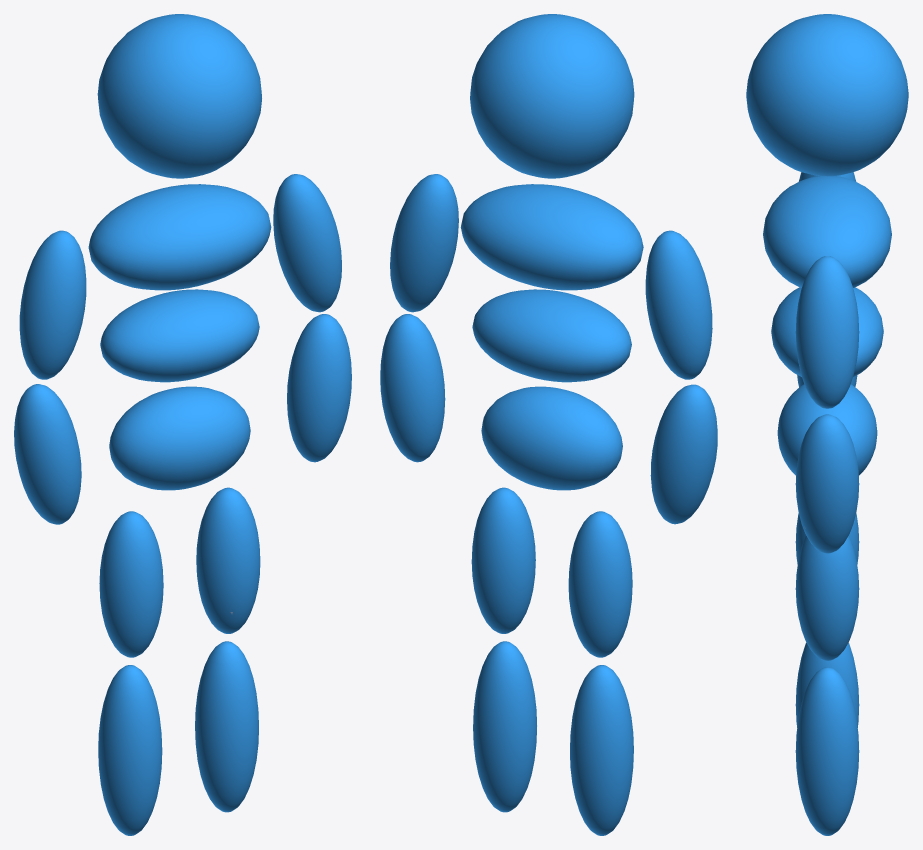
File: player3.obj
The picture shows the model from 3 angles, left to right: view 1: azimuth 30°, elevation 25°; view 2: azimuth 150°, elevation 25°; view 3: azimuth 270°, elevation 25°; orthographic projection.
Parts seen in each view (by area): view 1: Sphere.003_Sphere.009; view 2: Sphere.003_Sphere.009; view 3: Sphere.003_Sphere.009.
Boxes of the visible parts, x1,y1,x2,y2 form: Sphere.003_Sphere.009: (14,14,351,835); Sphere.003_Sphere.009: (380,14,717,835); Sphere.003_Sphere.009: (746,14,908,835).
Bounding box in the file's own units: 2.38 × 5.53 × 1.03.
Materials: 1 (1 with a texture image).
